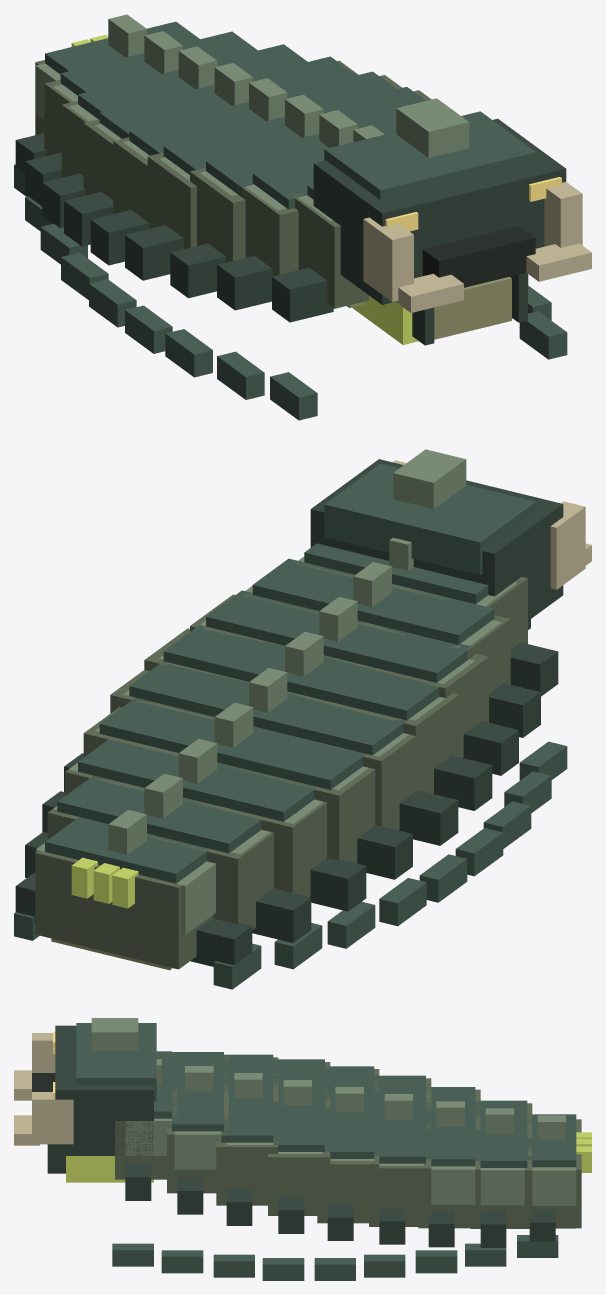
File: sluice_acidworm.glb
The picture shows the model from 3 angles, top to bottom: view 1: azimuth 30°, elevation 25°; view 2: azimuth 150°, elevation 25°; view 3: azimuth 270°, elevation 25°; orthographic projection. The views are drawn at different scales.
Visible parts, largest first — view 1: sluice_acidworm/head, sluice_acidworm/segment_5, sluice_acidworm/segment_4, sluice_acidworm/segment_3, sluice_acidworm/segment_6, sluice_acidworm/segment_2, sluice_acidworm/core, sluice_acidworm/segment_7, sluice_acidworm/segment_1, sluice_acidworm/segment_0, sluice_acidworm/locomotion_8_-1, sluice_acidworm/locomotion_7_-1 (+9 smaller); view 2: sluice_acidworm/head, sluice_acidworm/segment_0, sluice_acidworm/segment_3, sluice_acidworm/segment_4, sluice_acidworm/segment_5, sluice_acidworm/segment_2, sluice_acidworm/segment_6, sluice_acidworm/segment_1, sluice_acidworm/segment_7, sluice_acidworm/segment_8, sluice_acidworm/locomotion_4_-1, sluice_acidworm/locomotion_2_-1 (+9 smaller); view 3: sluice_acidworm/head, sluice_acidworm/segment_4, sluice_acidworm/segment_5, sluice_acidworm/segment_3, sluice_acidworm/segment_6, sluice_acidworm/segment_7, sluice_acidworm/segment_2, sluice_acidworm/segment_1, sluice_acidworm/segment_0, sluice_acidworm/segment_8, sluice_acidworm/locomotion_7_1, sluice_acidworm/locomotion_2_1 (+9 smaller).
Boxes of the visible parts, <box> form: sluice_acidworm/head: <box>313,98,591,312</box>; sluice_acidworm/segment_5: <box>147,87,431,248</box>; sluice_acidworm/segment_4: <box>113,71,402,221</box>; sluice_acidworm/segment_3: <box>83,56,358,199</box>; sluice_acidworm/segment_6: <box>190,110,396,262</box>; sluice_acidworm/segment_2: <box>61,44,307,177</box>; sluice_acidworm/core: <box>352,272,527,345</box>; sluice_acidworm/segment_7: <box>236,125,384,276</box>; sluice_acidworm/segment_1: <box>44,31,257,155</box>; sluice_acidworm/segment_0: <box>35,14,199,134</box>; sluice_acidworm/locomotion_8_-1: <box>270,267,333,420</box>; sluice_acidworm/locomotion_7_-1: <box>217,255,272,399</box>; sluice_acidworm/head: <box>310,449,591,620</box>; sluice_acidworm/segment_0: <box>35,810,215,970</box>; sluice_acidworm/segment_3: <box>83,697,375,863</box>; sluice_acidworm/segment_4: <box>110,661,424,830</box>; sluice_acidworm/segment_5: <box>144,625,458,793</box>; sluice_acidworm/segment_2: <box>65,739,326,896</box>; sluice_acidworm/segment_6: <box>190,590,488,757</box>; sluice_acidworm/segment_1: <box>47,773,273,929</box>; sluice_acidworm/segment_7: <box>242,558,510,693</box>; sluice_acidworm/segment_8: <box>295,537,527,649</box>; sluice_acidworm/locomotion_4_-1: <box>398,790,467,902</box>; sluice_acidworm/locomotion_2_-1: <box>310,858,375,948</box>; sluice_acidworm/head: <box>14,1018,156,1155</box>; sluice_acidworm/segment_4: <box>317,1066,379,1223</box>; sluice_acidworm/segment_5: <box>268,1059,330,1215</box>; sluice_acidworm/segment_3: <box>369,1075,431,1226</box>; sluice_acidworm/segment_6: <box>216,1054,278,1205</box>; sluice_acidworm/segment_7: <box>167,1052,228,1193</box>; sluice_acidworm/segment_2: <box>418,1087,480,1228</box>; sluice_acidworm/segment_1: <box>470,1100,532,1228</box>; sluice_acidworm/segment_0: <box>527,1114,581,1228</box>; sluice_acidworm/segment_8: <box>115,1051,177,1179</box>; sluice_acidworm/locomotion_7_1: <box>161,1176,203,1273</box>; sluice_acidworm/locomotion_2_1: <box>415,1209,457,1273</box>.
Bounding box in the file's own units: 3.5 × 2.59 × 6.97.
